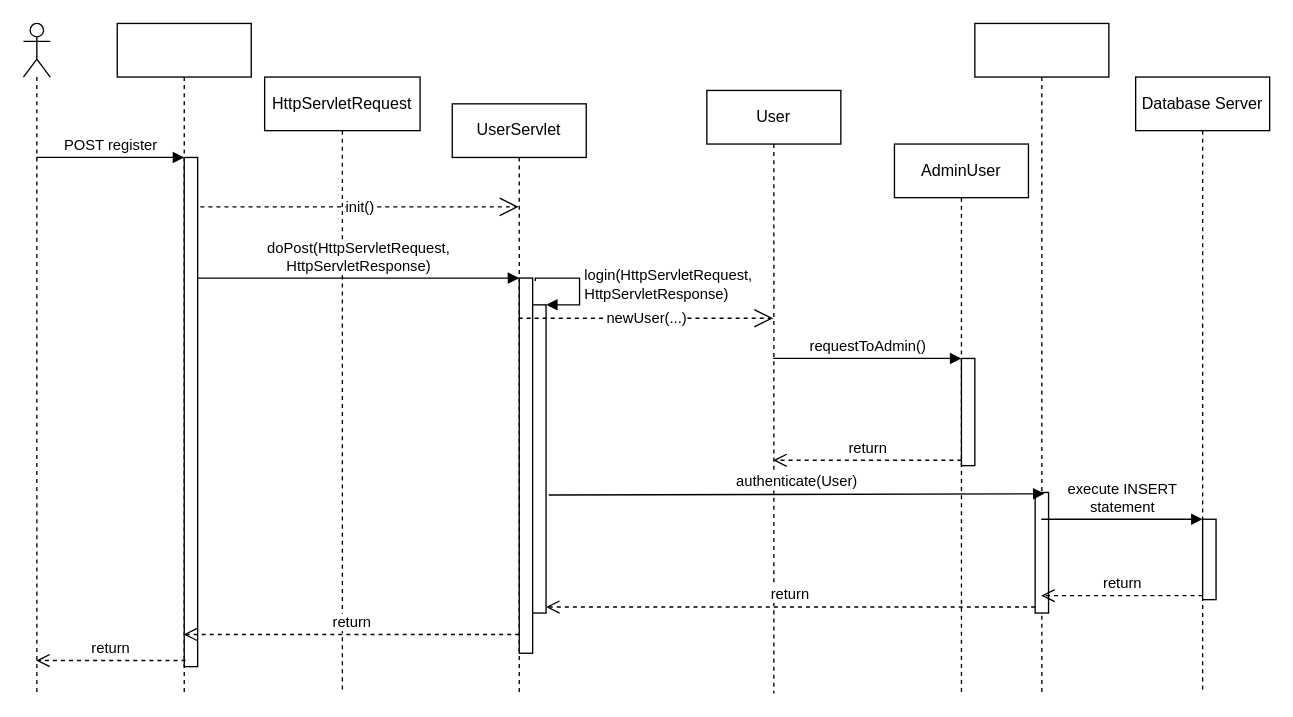
This 1293x717 diagram has some shape labels left out. Here are the shapes that lost their labels. From the top down, the box of each, then its label:
(116, 22, 251, 693): WebServer
(974, 22, 1109, 693): UserDOA
